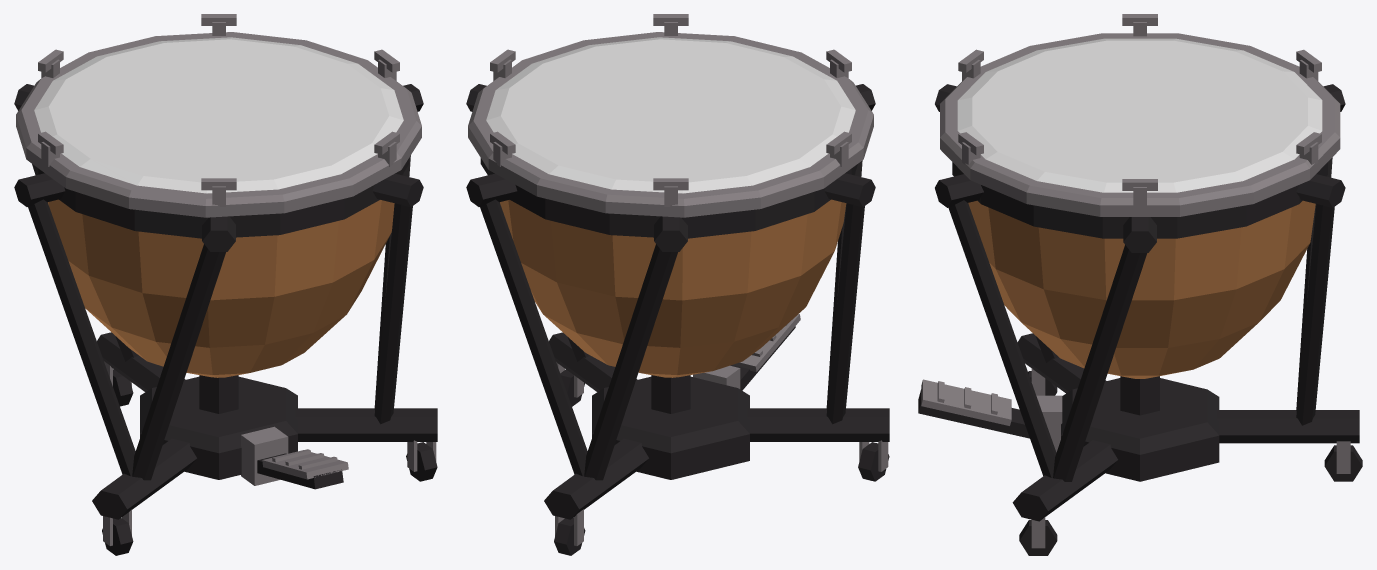
File: timpani-kettle-drum-23cb97.glb
3 renders of one model, left to right at view 1: azimuth 30°, elevation 25°; view 2: azimuth 150°, elevation 25°; view 3: azimuth 270°, elevation 25°, orthographic.
Visible parts, largest first — view 1: timpani-body, timpani-body-metal, pedal-mesh-metal, pedal-mesh, caster-wheel-r-mesh, caster-wheel-l-mesh, caster-wheel-b-mesh; view 2: timpani-body, timpani-body-metal, pedal-mesh-metal, caster-wheel-l-mesh, caster-wheel-b-mesh; view 3: timpani-body, timpani-body-metal, pedal-mesh-metal, pedal-mesh, caster-wheel-b-mesh, caster-wheel-r-mesh.
Part boxes in pixels (box(x1,y1,x2,y2)): timpani-body: box(14, 37, 437, 519); timpani-body-metal: box(16, 14, 436, 545); pedal-mesh-metal: box(262, 449, 348, 479); pedal-mesh: box(257, 453, 343, 489); caster-wheel-r-mesh: box(406, 442, 437, 481); caster-wheel-l-mesh: box(102, 518, 133, 555); caster-wheel-b-mesh: box(113, 369, 133, 406); timpani-body: box(466, 37, 889, 519); timpani-body-metal: box(468, 14, 888, 545); pedal-mesh-metal: box(733, 314, 800, 371); caster-wheel-l-mesh: box(858, 442, 889, 481); caster-wheel-b-mesh: box(554, 517, 585, 555); timpani-body: box(935, 38, 1359, 521); timpani-body-metal: box(940, 14, 1350, 548); pedal-mesh-metal: box(921, 379, 1011, 425); pedal-mesh: box(918, 388, 1029, 438); caster-wheel-b-mesh: box(1324, 445, 1362, 481); caster-wheel-r-mesh: box(1019, 520, 1057, 555).
Size of the model in its own units: 0.995 by 0.917 by 0.9716.
